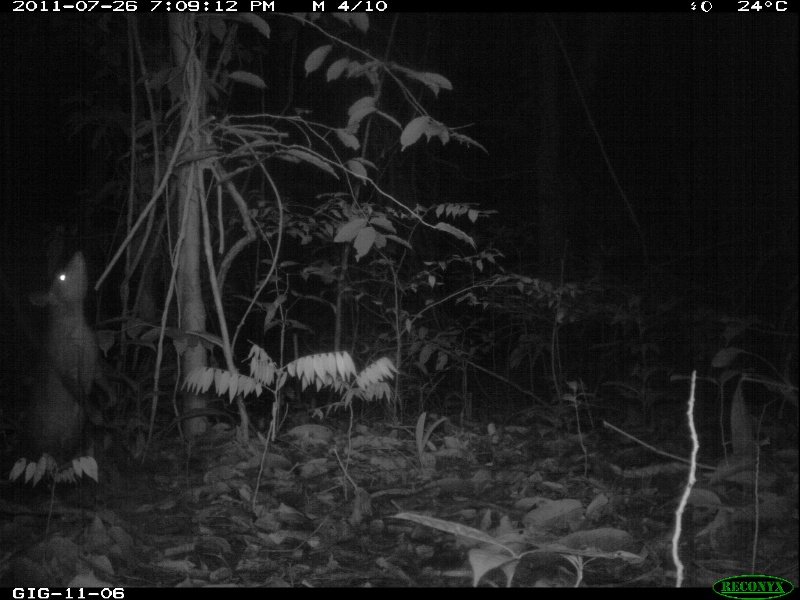opossum: (20, 238, 114, 484)
